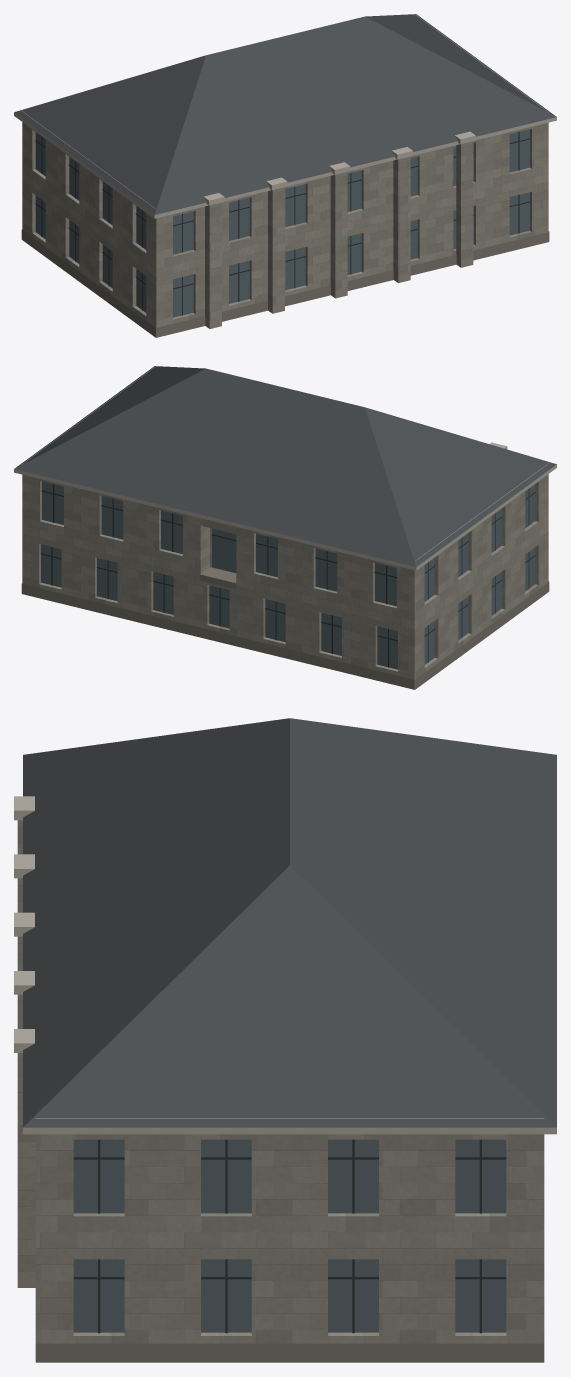
The picture shows the model from 3 angles, top to bottom: view 1: azimuth 30°, elevation 25°; view 2: azimuth 150°, elevation 25°; view 3: azimuth 270°, elevation 25°; orthographic projection. The views are drawn at different scales.
Parts seen in each view (by area): view 1: gymA__roofAccent, gymA__wall, gymA__glass, gymA__base, gymA__trim, gymA__frame; view 2: gymA__roofAccent, gymA__wall, gymA__glass, gymA__base, gymA__trim, gymA__frame; view 3: gymA__roofAccent, gymA__wall, gymA__glass, gymA__base, gymA__trim, gymA__frame.
Part boxes in pixels (x1=…): gymA__roofAccent: x1=14, y1=14, x2=556, y2=214; gymA__wall: x1=22, y1=122, x2=548, y2=337; gymA__glass: x1=35, y1=129, x2=529, y2=317; gymA__base: x1=21, y1=229, x2=549, y2=337; gymA__trim: x1=14, y1=15, x2=556, y2=218; gymA__frame: x1=35, y1=132, x2=530, y2=315; gymA__roofAccent: x1=14, y1=366, x2=556, y2=566; gymA__wall: x1=22, y1=474, x2=548, y2=689; gymA__glass: x1=41, y1=481, x2=535, y2=669; gymA__base: x1=21, y1=567, x2=549, y2=689; gymA__trim: x1=14, y1=367, x2=556, y2=570; gymA__frame: x1=40, y1=484, x2=535, y2=667; gymA__roofAccent: x1=23, y1=718, x2=556, y2=1127; gymA__wall: x1=17, y1=820, x2=544, y2=1343; gymA__glass: x1=73, y1=1139, x2=506, y2=1332; gymA__base: x1=35, y1=1343, x2=544, y2=1362; gymA__trim: x1=14, y1=796, x2=556, y2=1134; gymA__frame: x1=73, y1=1139, x2=506, y2=1333.
Bounding box in the file's own units: 29.4 × 14.32 × 18.1.
9 materials, 1 textured.
